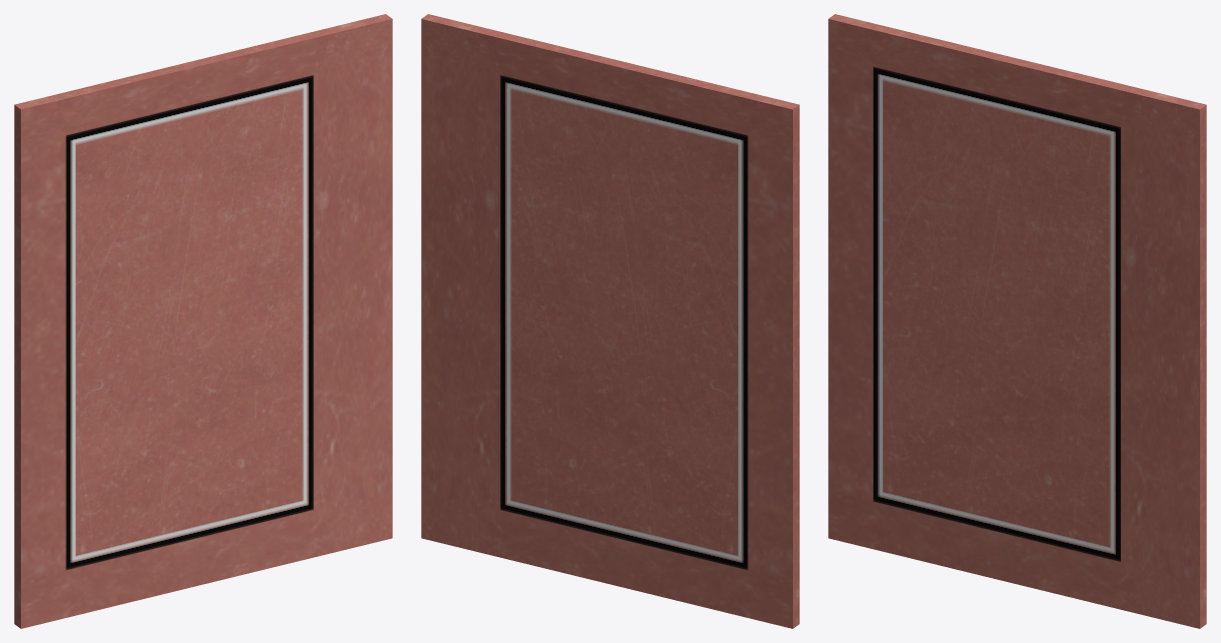
Rendered from SM_SJJ_HG_Wall03C.fbx.
3 views of the same model, side by side, from view 1: azimuth 30°, elevation 25°; view 2: azimuth 150°, elevation 25°; view 3: azimuth 330°, elevation 25° (orthographic).
Visible parts, largest first — view 1: SM_SJJ_HG_Wall03C; view 2: SM_SJJ_HG_Wall03C; view 3: SM_SJJ_HG_Wall03C.
Boxes of the visible parts, x1,y1,x2,y2 form: SM_SJJ_HG_Wall03C: (14,14,392,628); SM_SJJ_HG_Wall03C: (421,14,799,628); SM_SJJ_HG_Wall03C: (828,14,1206,628).
Size of the model in its own units: 63.4 by 2 by 84.66.
1 material, 1 textured.
